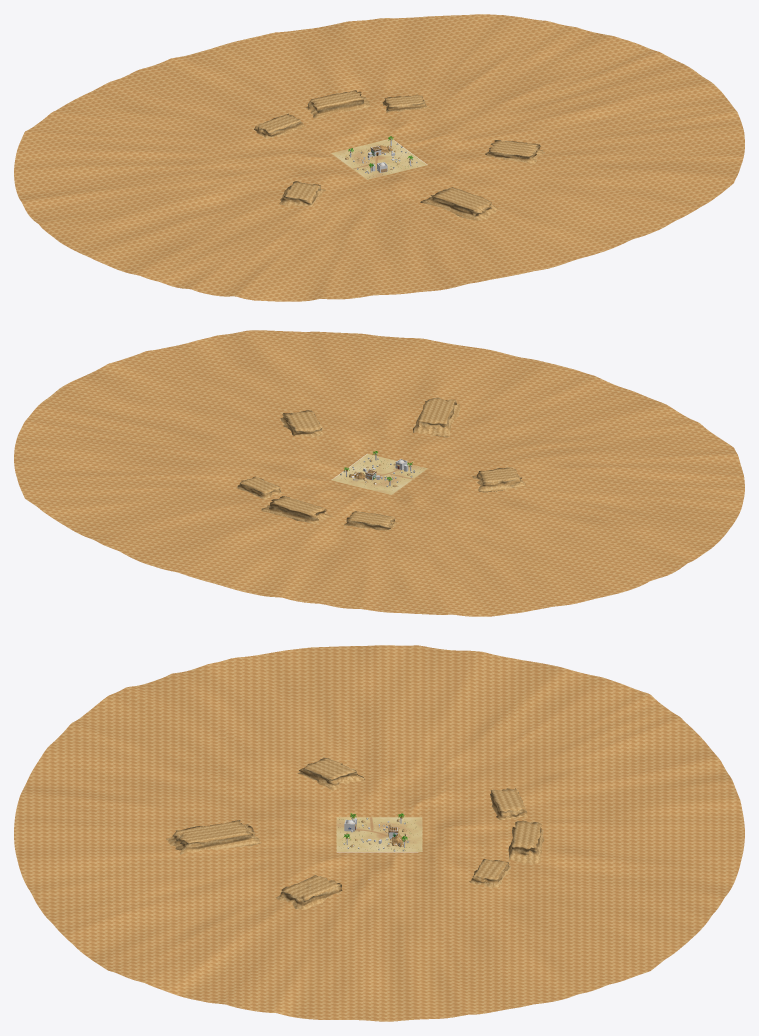
The model's file is desert-rock.glb.
3 views of the same model, one above another, from view 1: azimuth 30°, elevation 25°; view 2: azimuth 150°, elevation 25°; view 3: azimuth 270°, elevation 25° (orthographic). The views are drawn at different scales.
Parts seen in each view (by area): view 1: ground_far, cliffs, ground; view 2: ground_far, cliffs, ground; view 3: ground_far, cliffs, ground.
Boxes of the visible parts, box(x1,y1,x2,y2) form: ground_far: box(14, 14, 744, 301); cliffs: box(254, 90, 544, 221); ground: box(331, 139, 427, 179); ground_far: box(14, 330, 744, 616); cliffs: box(236, 397, 525, 530); ground: box(331, 454, 427, 494); ground_far: box(14, 645, 744, 1021); cliffs: box(166, 757, 544, 909); ground: box(336, 817, 422, 851).
Bounding box in the file's own units: 992 × 16.94 × 816.
32 materials, 25 textured.
